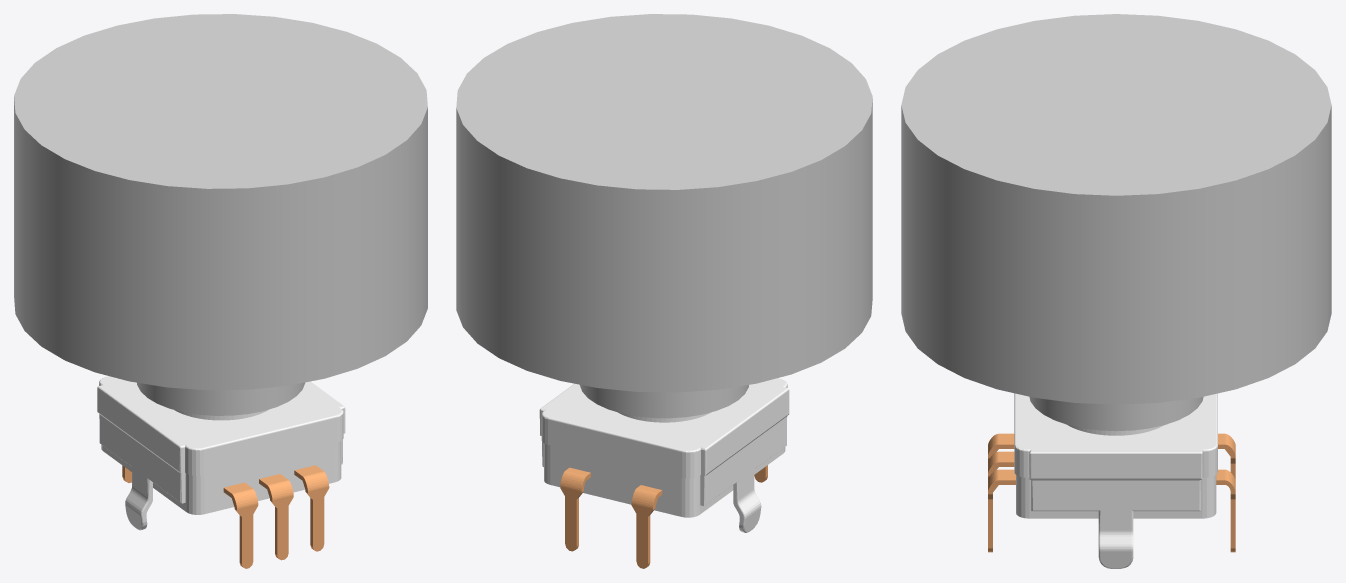
Rendered from rotary.glb.
3 renders of one model, left to right at view 1: azimuth 30°, elevation 25°; view 2: azimuth 150°, elevation 25°; view 3: azimuth 270°, elevation 25°, orthographic. The views are drawn at different scales.
Parts seen in each view (by area): view 1: Cylinder, imagetostl_mesh.001, imagetostl_mesh.004; view 2: Cylinder, imagetostl_mesh.001, imagetostl_mesh.003, imagetostl_mesh.002; view 3: Cylinder, imagetostl_mesh.001, imagetostl_mesh.004, imagetostl_mesh.002.
Boxes of the visible parts, x1=… form: Cylinder: x1=14, y1=14, x2=427, y2=415; imagetostl_mesh.001: x1=97, y1=376, x2=345, y2=530; imagetostl_mesh.004: x1=223, y1=465, x2=329, y2=568; Cylinder: x1=456, y1=14, x2=872, y2=418; imagetostl_mesh.001: x1=539, y1=378, x2=789, y2=532; imagetostl_mesh.003: x1=631, y1=485, x2=662, y2=568; imagetostl_mesh.002: x1=560, y1=467, x2=590, y2=551; Cylinder: x1=901, y1=14, x2=1331, y2=431; imagetostl_mesh.001: x1=1014, y1=393, x2=1217, y2=568; imagetostl_mesh.004: x1=988, y1=433, x2=1015, y2=552; imagetostl_mesh.002: x1=1216, y1=469, x2=1235, y2=552.
Bounding box in the file's own units: 25.33 × 27.84 × 25.33.
